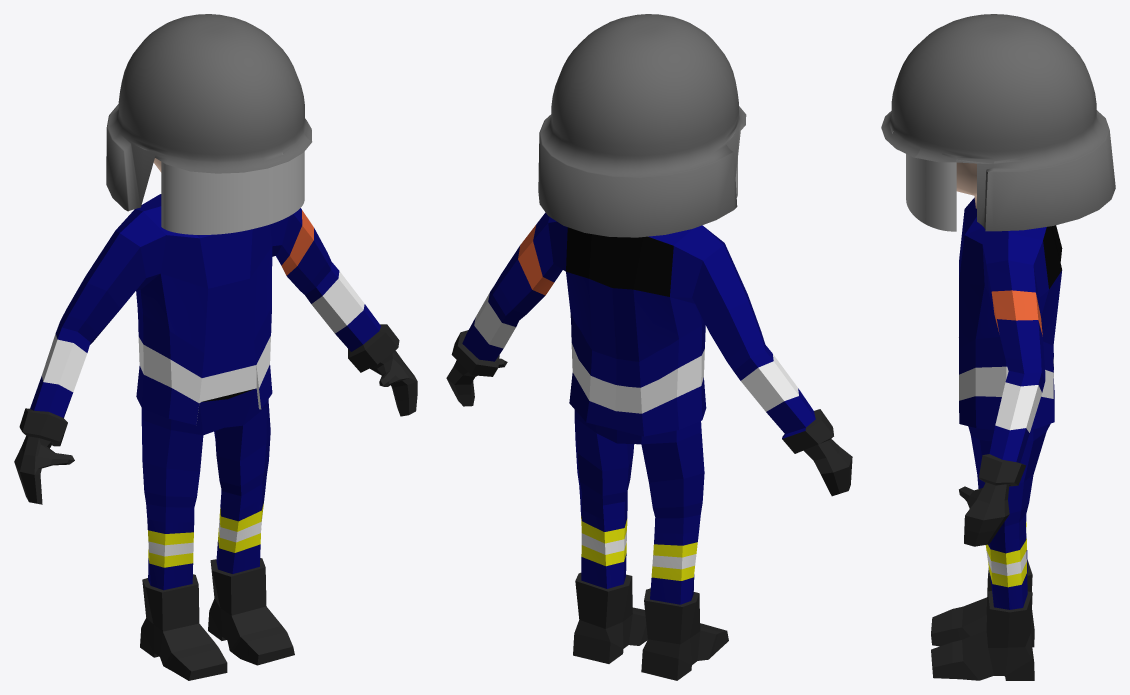
File: Policier.fbx
3 views of the same model, side by side, from view 1: azimuth 30°, elevation 25°; view 2: azimuth 150°, elevation 25°; view 3: azimuth 270°, elevation 25° (orthographic).
Parts seen in each view (by area): view 1: Character, group_5.005, Surface; view 2: Character, group_5.005; view 3: Character, group_5.005, Surface.
Boxes of the visible parts, x1,y1,x2,y2 form: Character: (14,158,417,680); group_5.005: (106,14,312,211); Surface: (161,152,304,234); Character: (446,212,852,680); group_5.005: (538,14,746,237); Character: (931,162,1062,680); group_5.005: (881,14,1115,231); Surface: (906,150,956,231).
Bounding box in the file's own units: 120 × 180 × 60.83.
